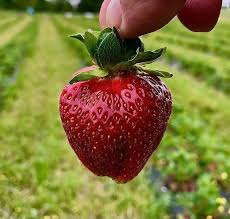ripe: (57, 61, 180, 187)
